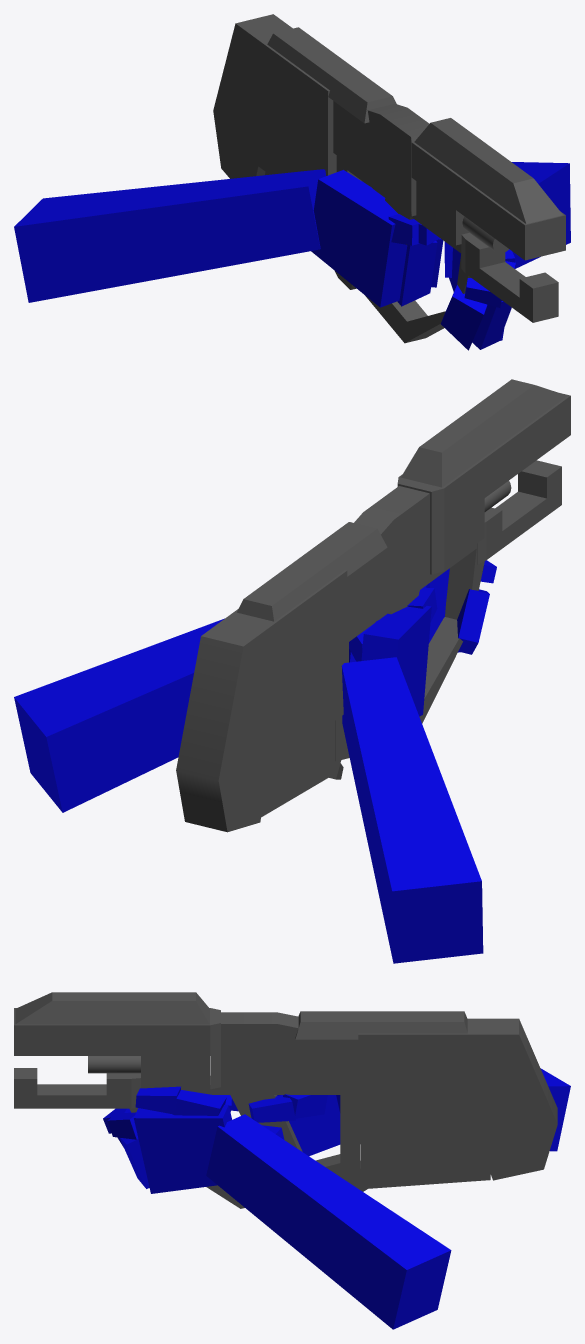
Rendered from ArmsWithGun.fbx.
3 views of the same model, one above another, from view 1: azimuth 30°, elevation 25°; view 2: azimuth 150°, elevation 25°; view 3: azimuth 270°, elevation 25° (orthographic). The views are drawn at different scales.
Visible parts, largest first — view 1: ArmsWithGunBlockout; view 2: ArmsWithGunBlockout; view 3: ArmsWithGunBlockout.
Part boxes in pixels (<box>): ArmsWithGunBlockout: <box>14,14,570,350</box>; ArmsWithGunBlockout: <box>14,379,570,963</box>; ArmsWithGunBlockout: <box>14,992,570,1329</box>.
Size of the model in its own units: 48.72 by 25.68 by 55.6.
